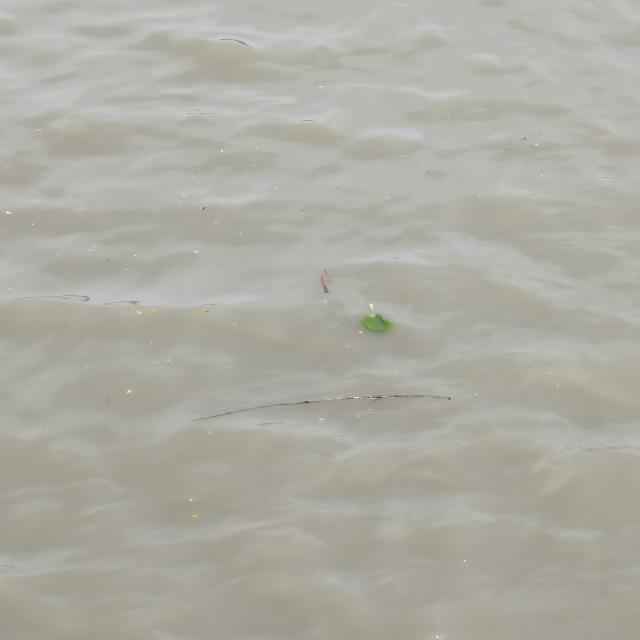Organic Debris: (186, 393, 452, 423), (357, 314, 395, 334), (318, 268, 334, 296), (172, 107, 219, 115), (368, 302, 375, 312), (315, 416, 326, 421), (199, 204, 208, 210), (125, 389, 134, 395), (190, 513, 199, 519), (134, 310, 144, 315), (532, 142, 540, 148), (5, 210, 14, 215), (354, 414, 363, 419), (86, 248, 95, 252), (332, 451, 338, 457), (187, 498, 196, 502), (298, 208, 306, 212), (90, 244, 98, 248), (122, 267, 132, 270), (203, 309, 210, 313), (149, 308, 156, 312), (357, 330, 363, 334), (218, 149, 224, 153), (133, 254, 141, 257), (192, 250, 200, 253), (106, 398, 112, 402), (476, 195, 483, 198), (35, 128, 42, 131), (212, 221, 219, 224), (366, 408, 373, 411), (345, 344, 350, 348), (384, 196, 389, 200), (254, 146, 259, 150), (422, 163, 426, 168), (181, 194, 186, 198), (166, 358, 171, 362), (272, 187, 278, 190), (30, 222, 36, 225), (176, 200, 182, 203), (359, 299, 363, 303), (523, 136, 527, 140), (446, 115, 451, 118), (245, 169, 249, 172), (252, 164, 255, 168), (400, 156, 406, 158), (318, 86, 324, 88), (56, 253, 60, 256), (26, 230, 30, 233), (239, 232, 242, 236), (323, 300, 328, 302), (505, 148, 514, 149), (539, 174, 543, 176), (475, 122, 479, 124)
